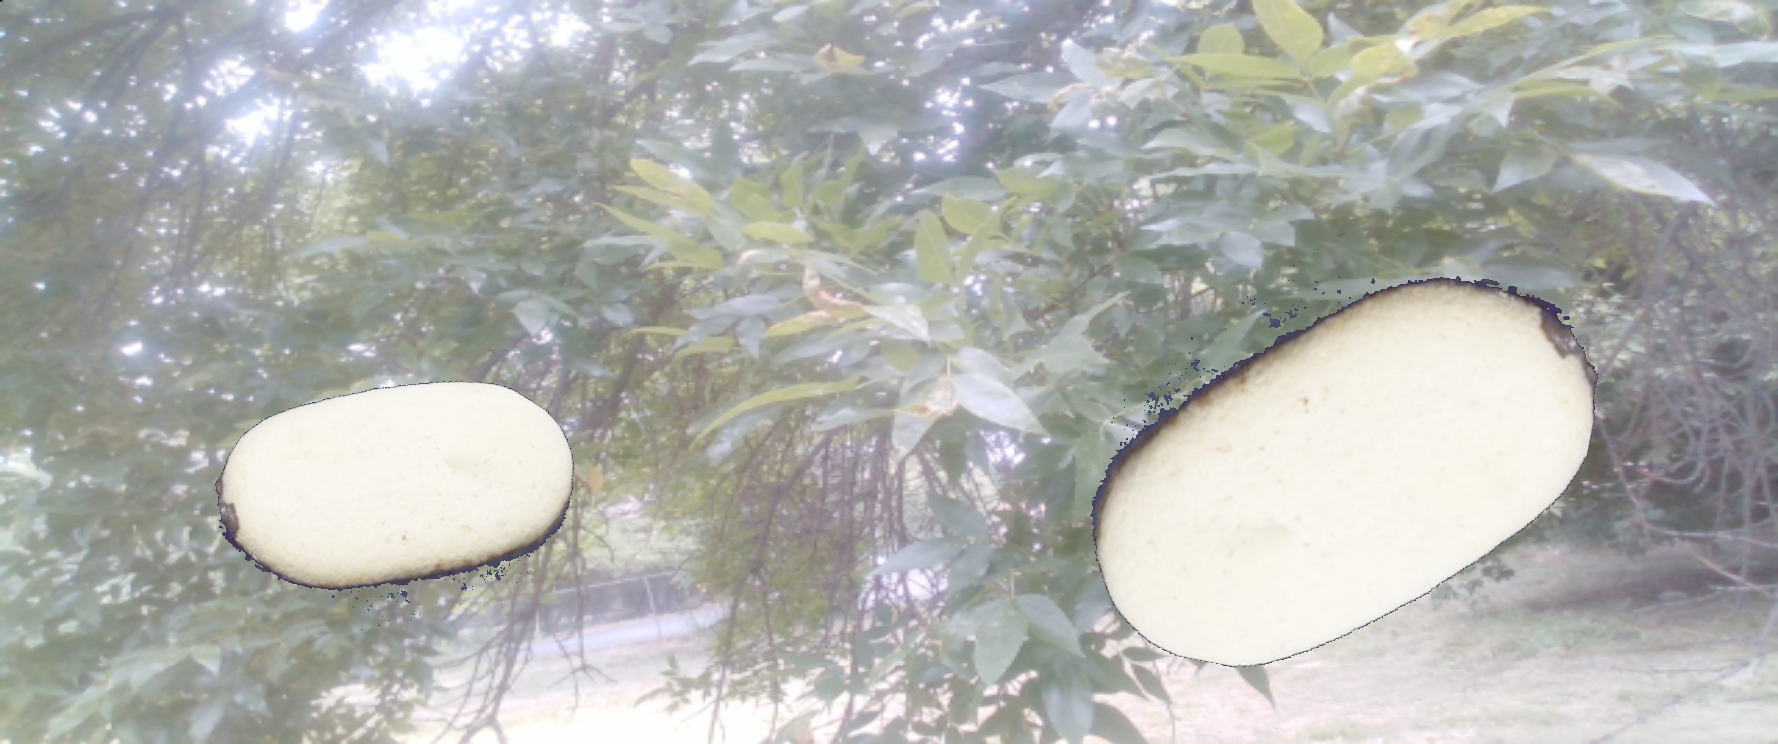test: (1058, 176, 1628, 732), (172, 277, 613, 715)
